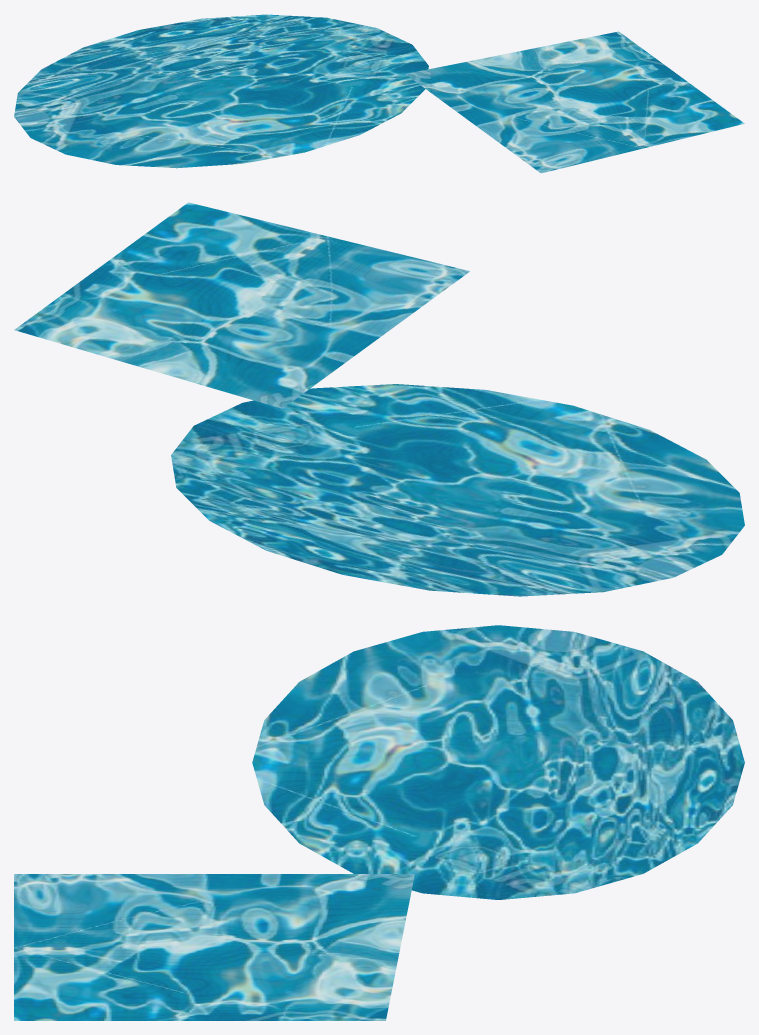
Rendered from agua.obj.
The picture shows the model from 3 angles, top to bottom: view 1: azimuth 30°, elevation 25°; view 2: azimuth 150°, elevation 25°; view 3: azimuth 270°, elevation 25°; orthographic projection. The views are drawn at different scales.
Visible parts, largest first — view 1: pCylinder3, pCube6; view 2: pCylinder3, pCube6; view 3: pCylinder3, pCube6.
Boxes of the visible parts, x1,y1,x2,y2 form: pCylinder3: (14,14,428,168); pCube6: (405,31,744,173); pCylinder3: (171,384,744,596); pCube6: (14,202,469,408); pCylinder3: (252,625,744,899); pCube6: (14,874,414,1020).
Bounding box in the file's own units: 29.04 × 0.0117 × 22.65.
